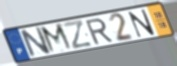2: (108, 12, 135, 44)
M: (39, 22, 76, 55)
N: (18, 25, 53, 59), (127, 8, 157, 39)
R: (84, 17, 115, 46)
Z: (62, 19, 94, 51)
